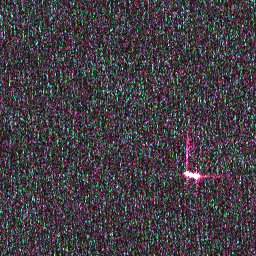ship: (182, 168, 202, 182)
